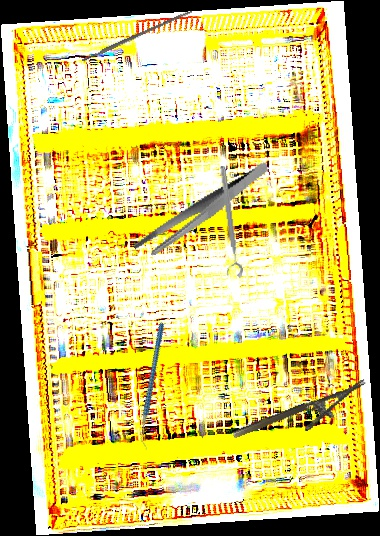Chopper: (102, 321, 205, 451)
Dressing Forceps: (121, 161, 283, 261)
Fixation Ring: (211, 165, 244, 280)
Needle Holder: (231, 378, 375, 457)
Scalpel Handle: (81, 8, 193, 63)
